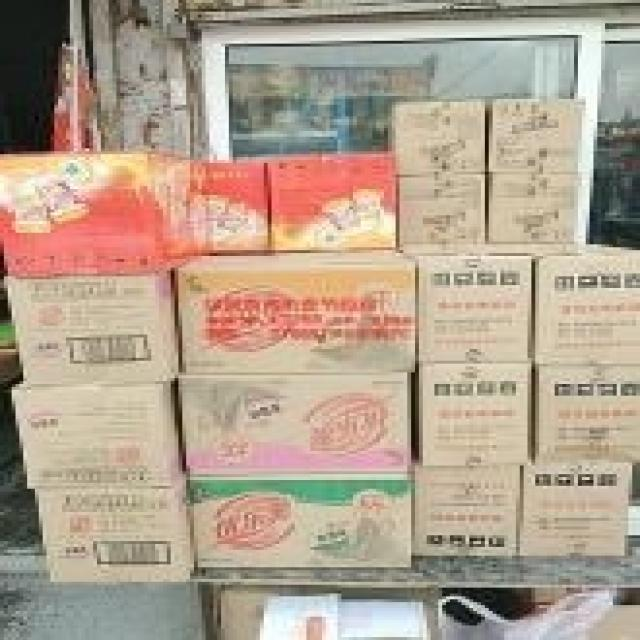box: (167, 250, 415, 372), (175, 372, 415, 477), (0, 151, 198, 276), (182, 474, 415, 570), (4, 271, 186, 387), (493, 241, 640, 367), (12, 378, 178, 489), (31, 474, 194, 585), (396, 241, 531, 364), (275, 151, 396, 256), (415, 364, 535, 468), (524, 463, 632, 561), (411, 463, 520, 559), (531, 367, 640, 463), (485, 99, 586, 175), (485, 172, 586, 244), (198, 160, 272, 256), (392, 102, 485, 175), (396, 175, 489, 244)
